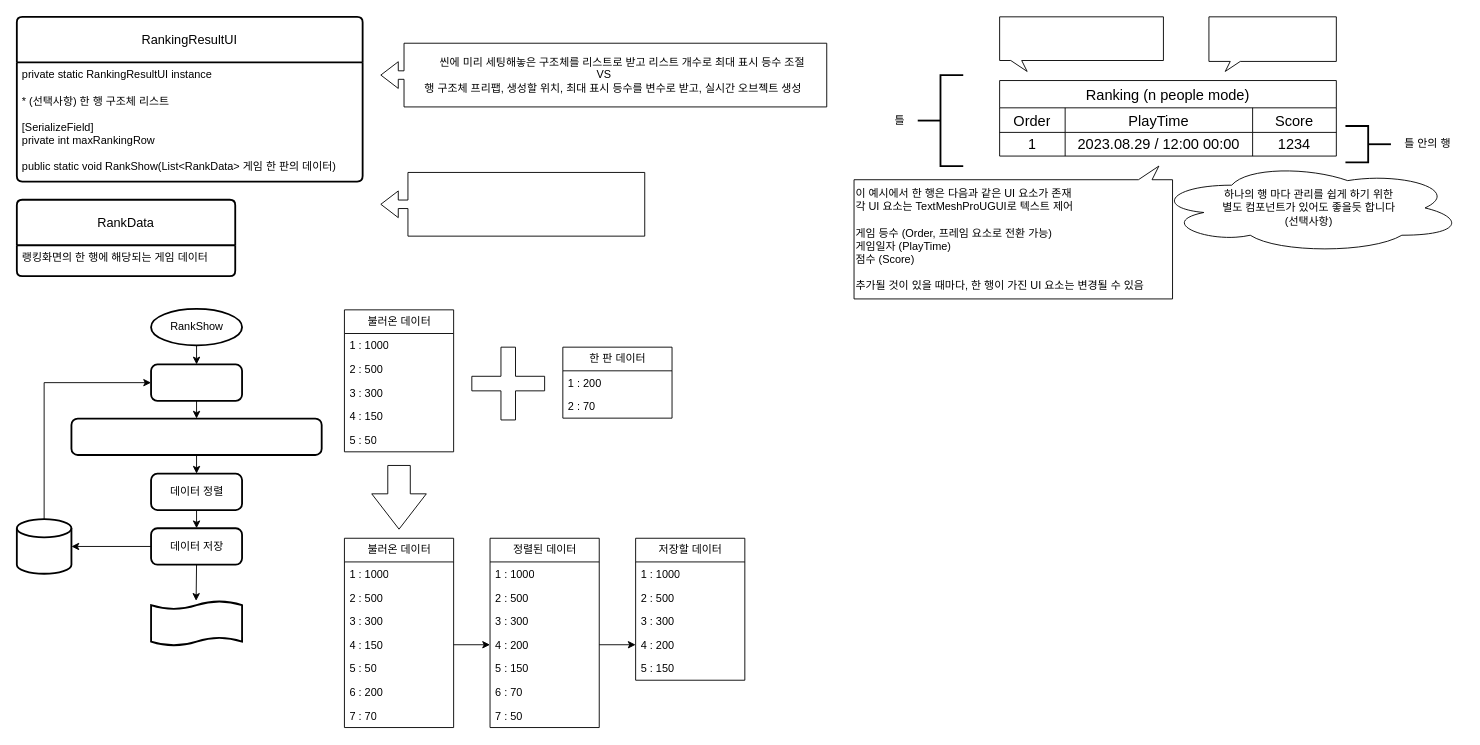
Image size: 1480x745. Some labels were removed from this diagram. The centre of each missing label's shape, as x and y in pixels:
DB: the point at 43,546
UI 표시 과정: the point at 196,623
게임 참가자 전체를 리스트로 전달? VS 게임 한 판에서 우승한 1명의 데이터만 전달?: the point at 512,204
데이터 로드: the point at 196,382
랭킹화면 예상도 (변동 가능): the point at 1081,43
인원수별 랭킹 구분: the point at 1272,43
한 판 데이터를 불러온 랭킹 데이터에 추가: the point at 196,436
